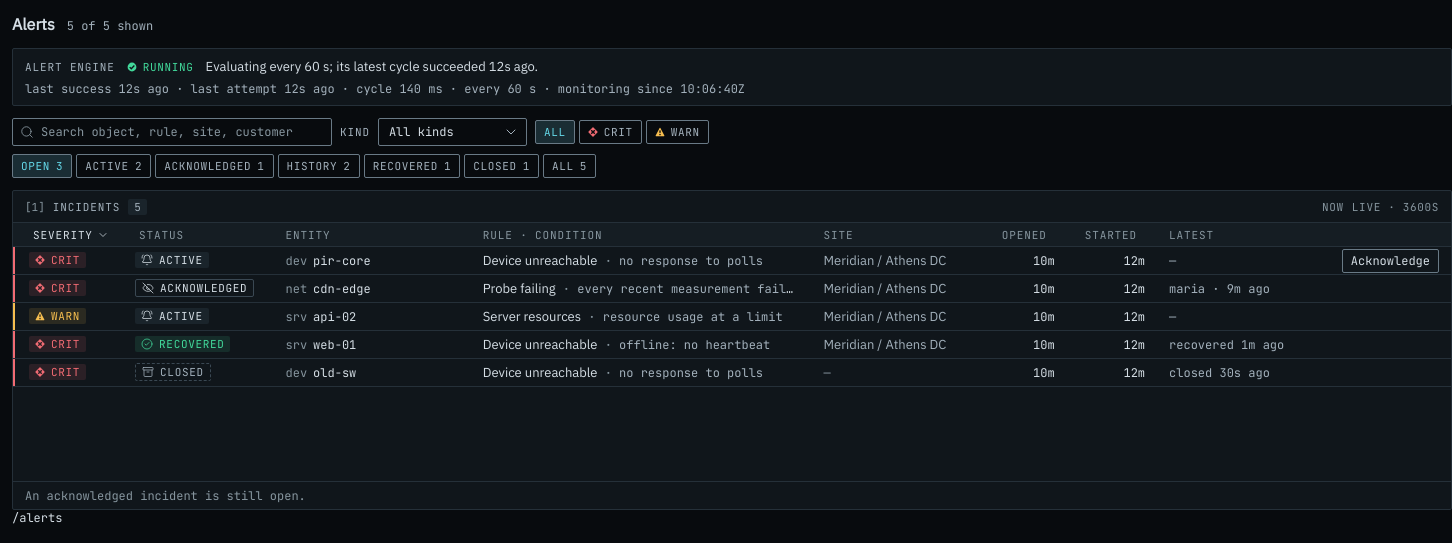
Test: the filters › search once the typing settles, over the object, rule, site and customer
Type "core" into the search field named "Search incidents" at coordinates (172, 132), box x1=12 y1=118 x2=332 y2=146
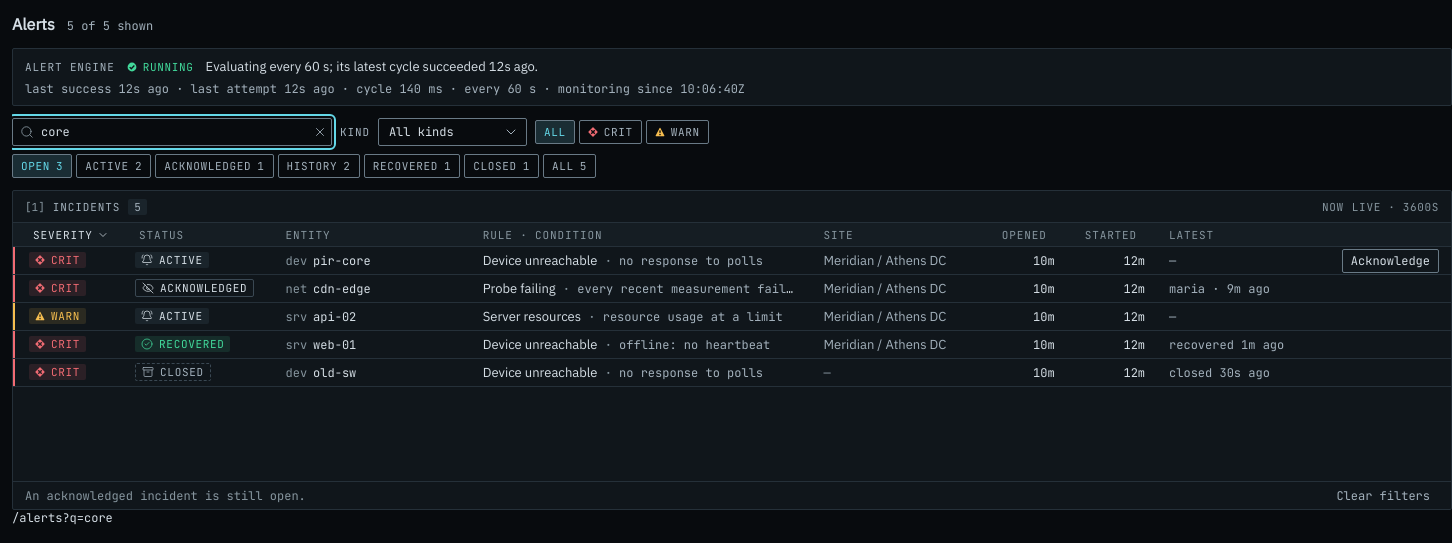
Expected: the text with test id "location" shows "q=core", x1=12 y1=510 x2=113 y2=526
